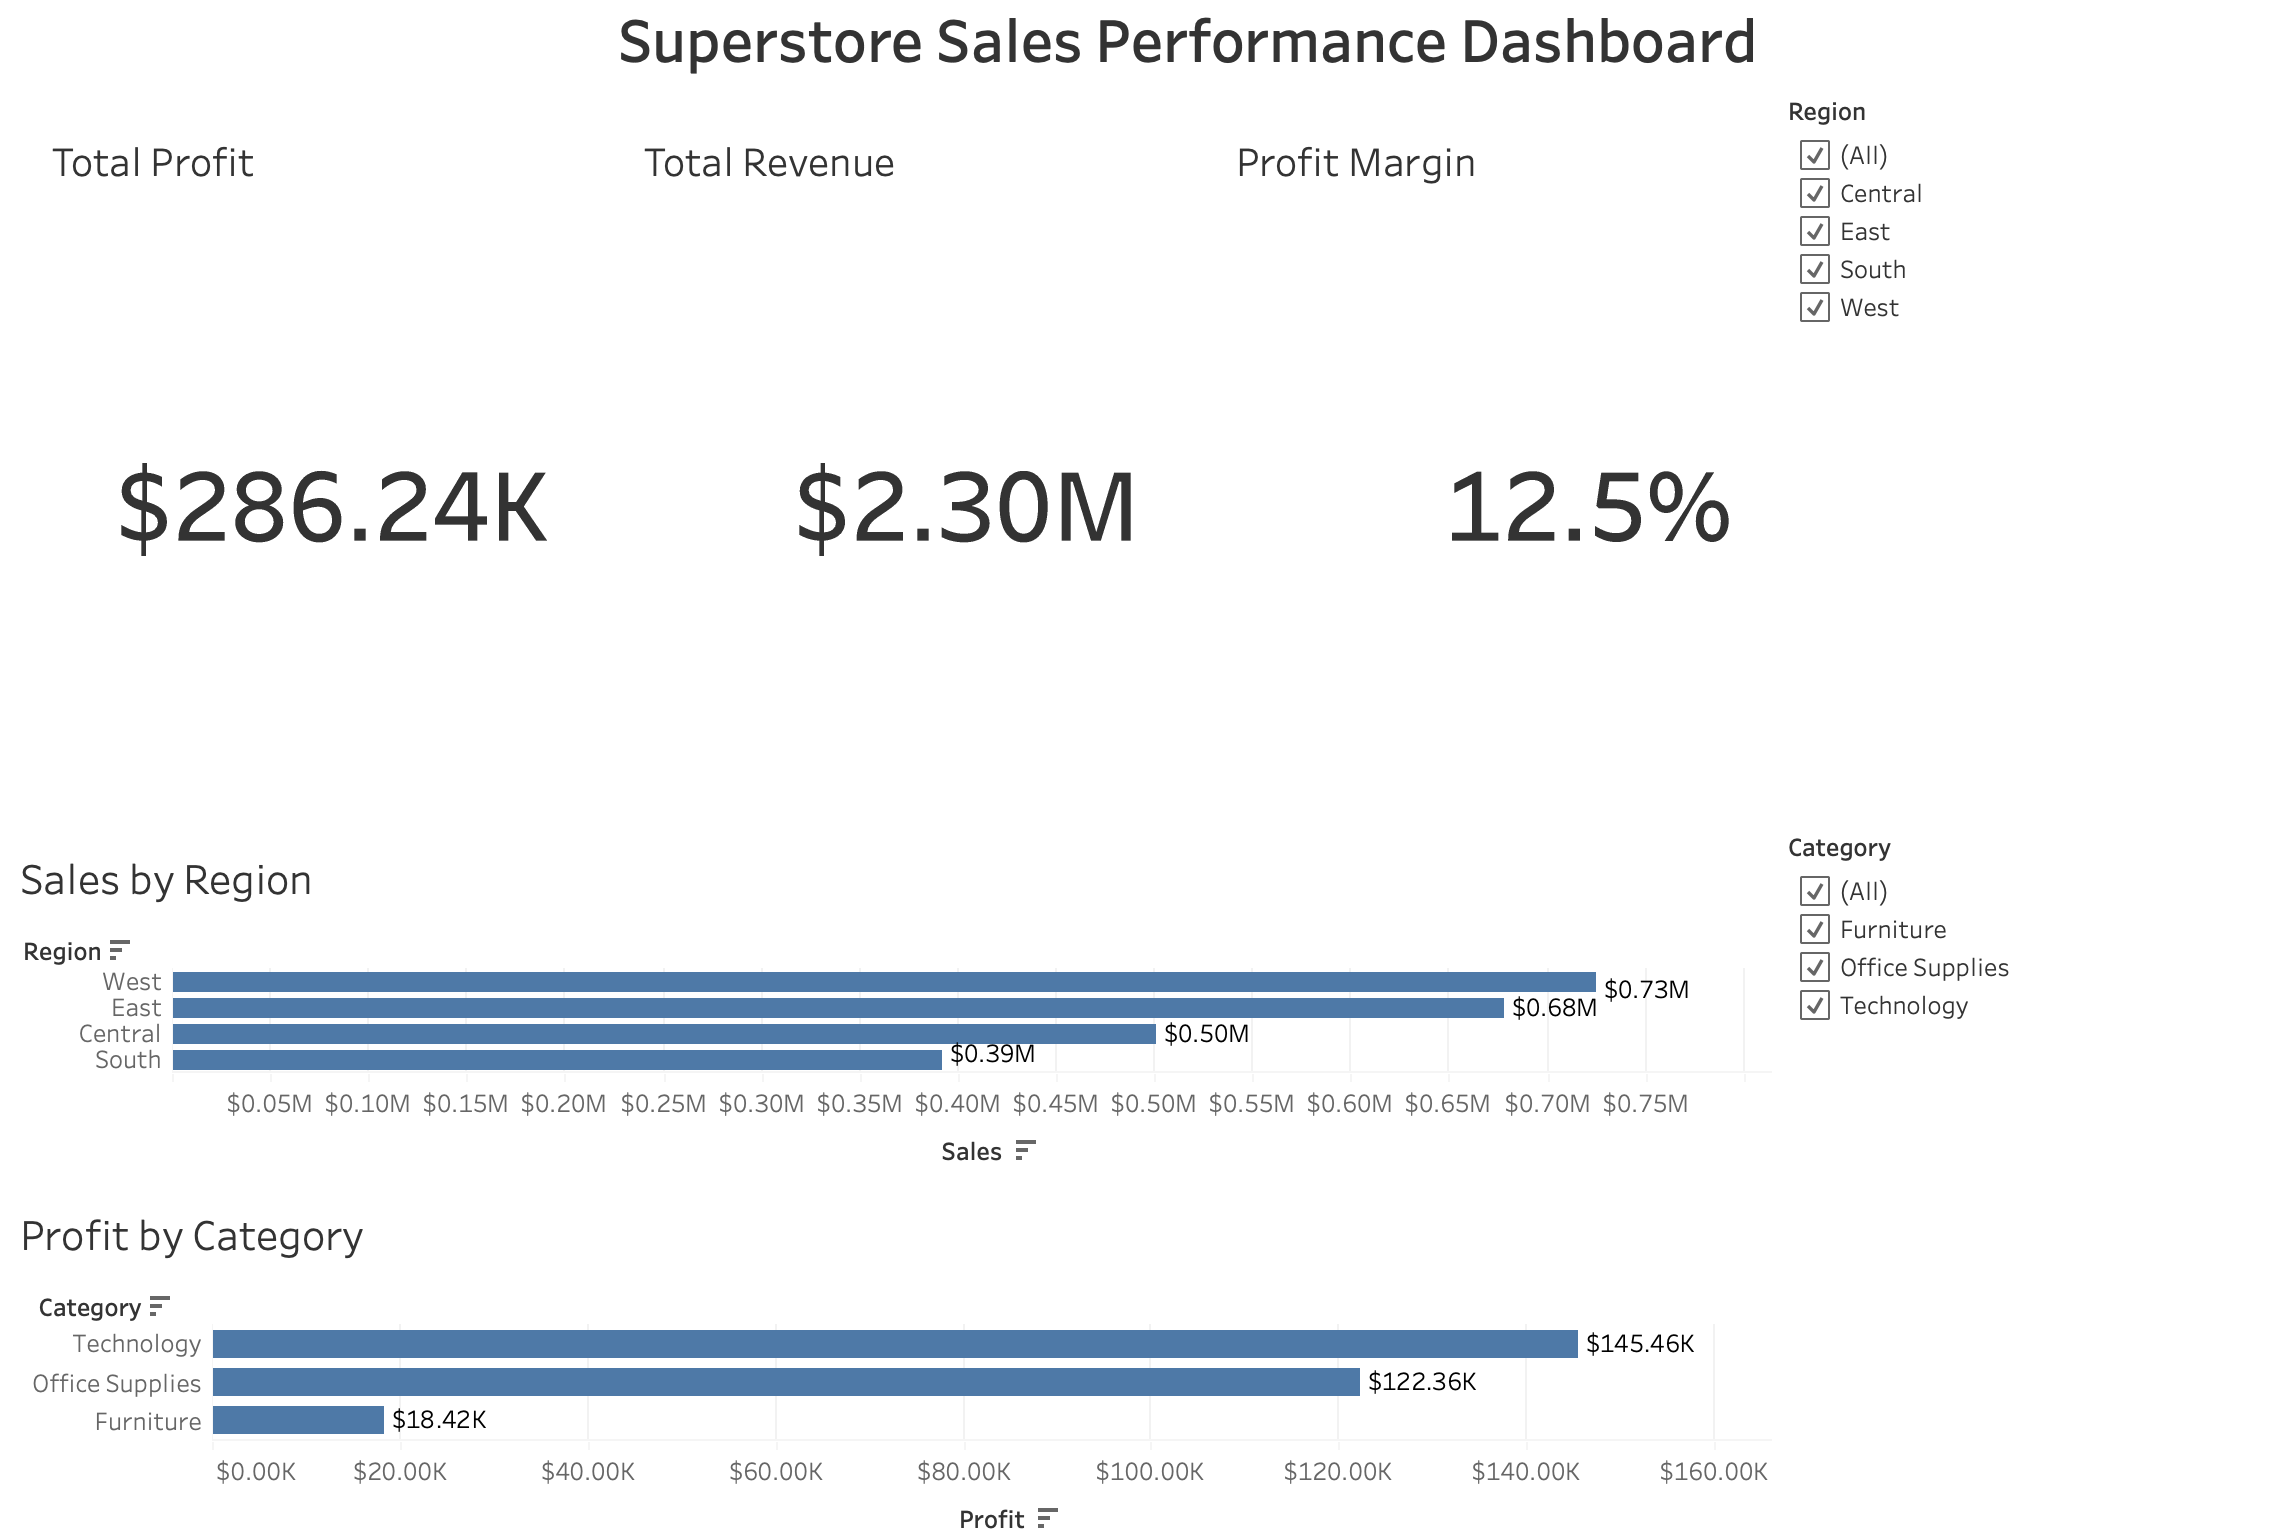

This screenshot's page, from the dashboard's own definition file:
{"tool":"tableau","page":{"name":"Dashboard 1","canvas":[1200,800],"ordinal":0},"visuals":[{"type":"title","box":[8,8,1184,48]},{"type":"worksheet","title":"Total Profit","mark":"Automatic","box":[8,56,296,373.6]},{"type":"worksheet","title":"Total Revenue","mark":"Automatic","box":[304,56,296,373.6]},{"type":"worksheet","title":"Profit Margin","mark":"Automatic","box":[600,56,296,373.6]},{"type":"filter","title":"Sales by Region","param":"[federated.1f2hgct09pdsc31g85tq81fqloke].[none:Region:nk]","box":[896,56,296,368]},{"type":"filter","title":"Profit by Category","param":"[federated.1f2hgct09pdsc31g85tq81fqloke].[none:Category:nk]","box":[896,424,296,368]},{"type":"worksheet","title":"Sales by Region","mark":"Automatic","rows":["Region"],"cols":["Sales"],"box":[8,429.6,888,178.4]},{"type":"worksheet","title":"Profit by Category","mark":"Automatic","rows":["Category"],"cols":["Profit"],"box":[8,608,888,184]}]}

Visuals, with their boxes in screenshot pixels (x1, y1, x2, y2), scaled from the page's 1200x800 canvas onto the 2288x1530 screenshot:
title: detection(15, 15, 2273, 107)
"Total Profit" worksheet: detection(15, 107, 580, 822)
"Total Revenue" worksheet: detection(580, 107, 1144, 822)
"Profit Margin" worksheet: detection(1144, 107, 1708, 822)
"Sales by Region" filter: detection(1708, 107, 2273, 811)
"Profit by Category" filter: detection(1708, 811, 2273, 1515)
"Sales by Region" worksheet: detection(15, 822, 1708, 1163)
"Profit by Category" worksheet: detection(15, 1163, 1708, 1515)
